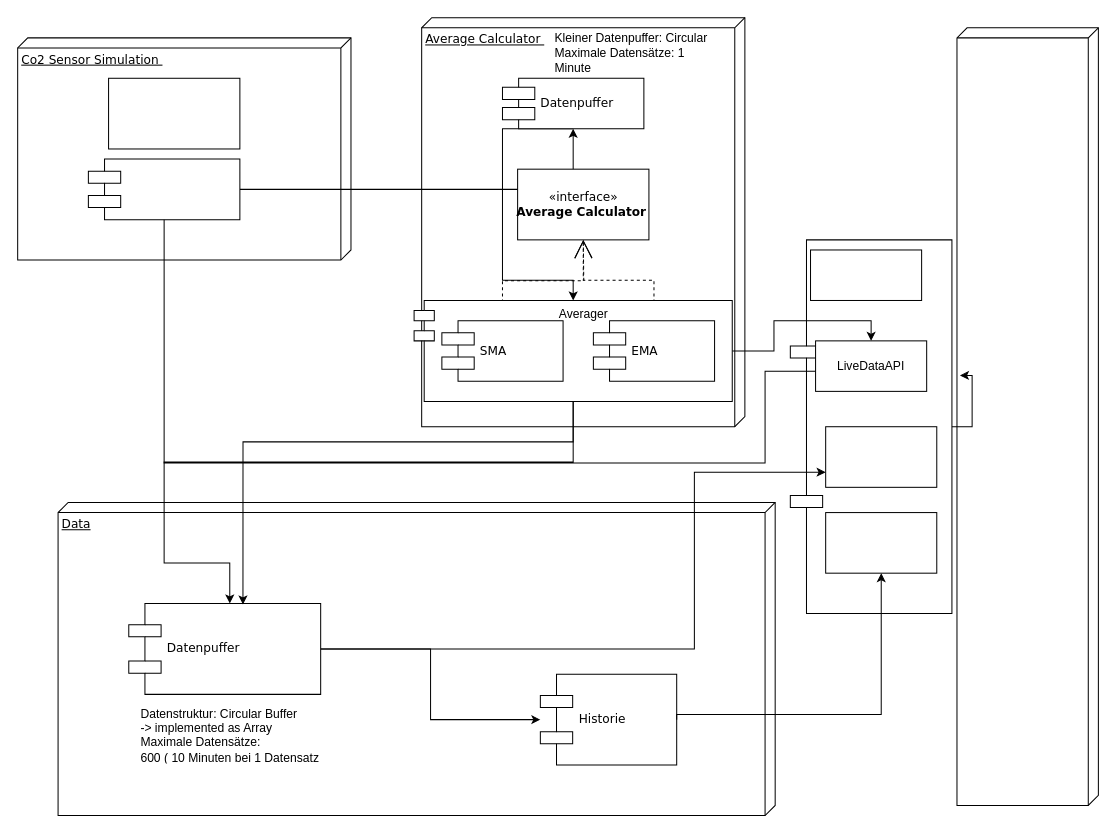
Some shapes in this 1116 by 833 pixel diagram are drawn without their labels. The centre of each missing label's shape, as x and y in pixels:
"HistorieAPI" belongs at (881,542).
"Sensor Simulator" belongs at (163,189).
"TrendDataAPI" belongs at (881,456).
"User Interface" belongs at (1027,416).
"«interface» FrontendAPI" belongs at (866,274).
"«interface» Sensor Simulator" belongs at (174,113).
